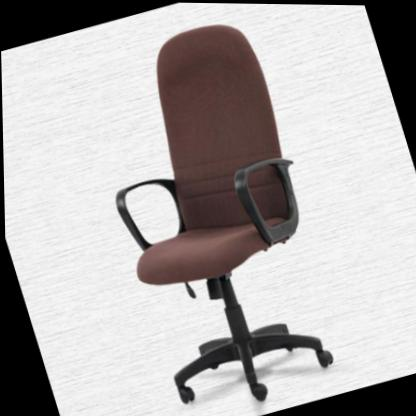Chair: (66, 15, 345, 416)
